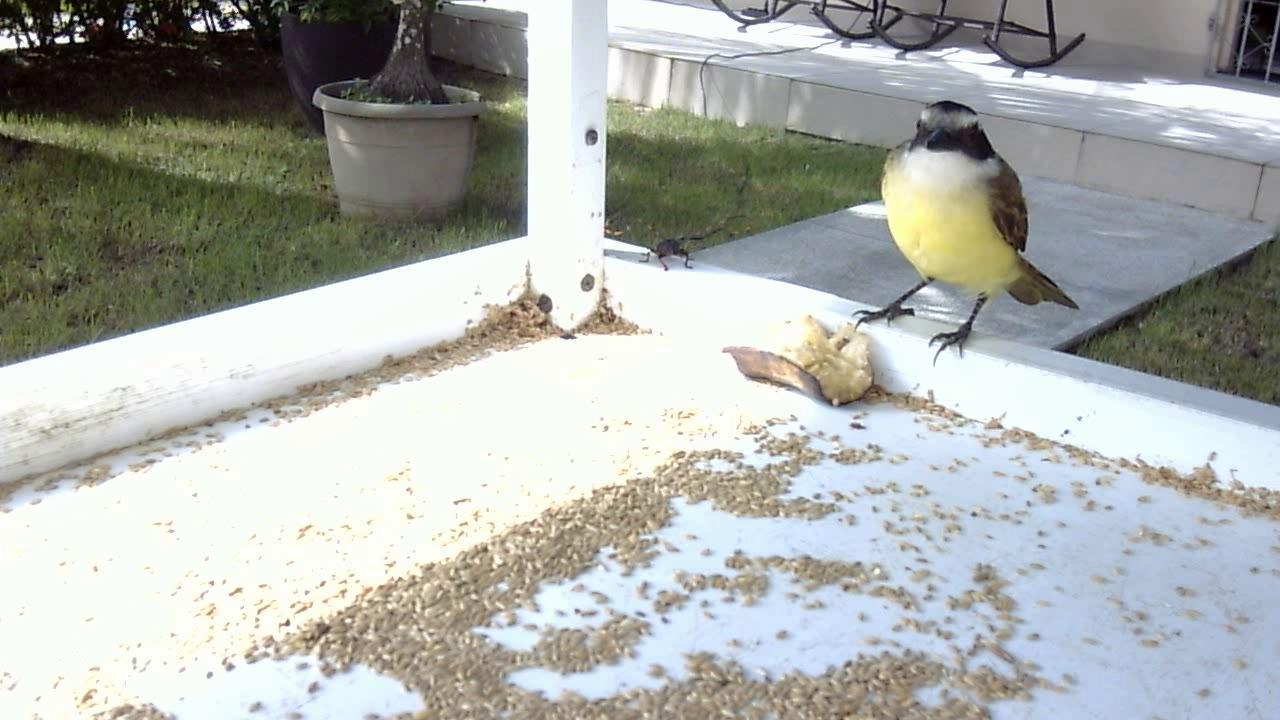bem_te_vi: (833, 89, 1087, 381)
